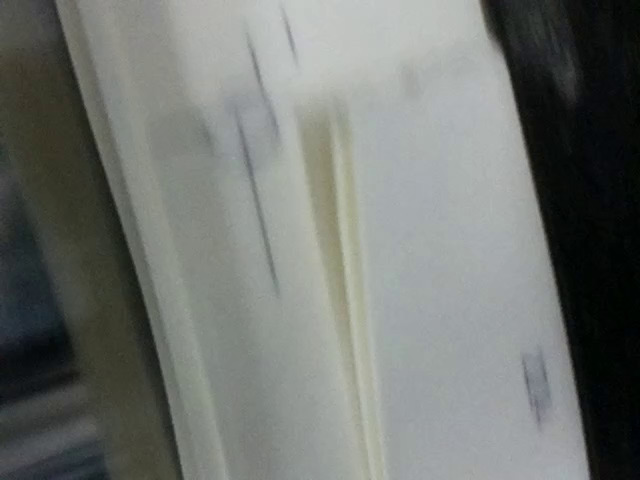not_sure: (159, 34, 291, 184)
